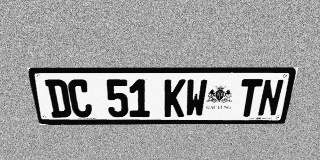1: (128, 79, 150, 117)
5: (106, 79, 129, 117)
C: (67, 79, 93, 117)
D: (44, 79, 72, 117)
K: (164, 79, 186, 117)
N: (257, 79, 285, 116)
T: (237, 79, 263, 117)
W: (185, 79, 208, 117)
